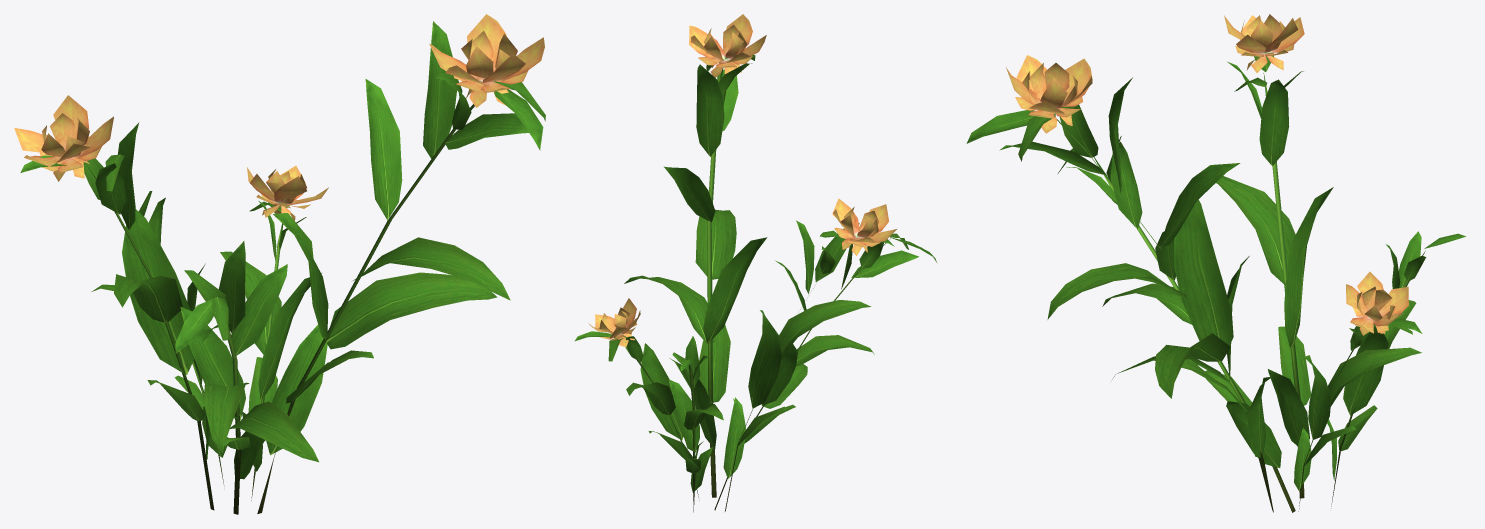
The model's file is leafplant10_lod1.fbx.
The picture shows the model from 3 angles, left to right: view 1: azimuth 30°, elevation 25°; view 2: azimuth 150°, elevation 25°; view 3: azimuth 270°, elevation 25°; orthographic projection. The views are drawn at different scales.
Parts seen in each view (by area): view 1: Mesh Object; view 2: Mesh Object; view 3: Mesh Object.
Boxes of the visible parts, x1,y1,x2,y2 form: Mesh Object: (14,14,545,514); Mesh Object: (575,14,936,512); Mesh Object: (966,14,1465,512).
Bounding box in the file's own units: 1.22 × 1.49 × 1.36.
